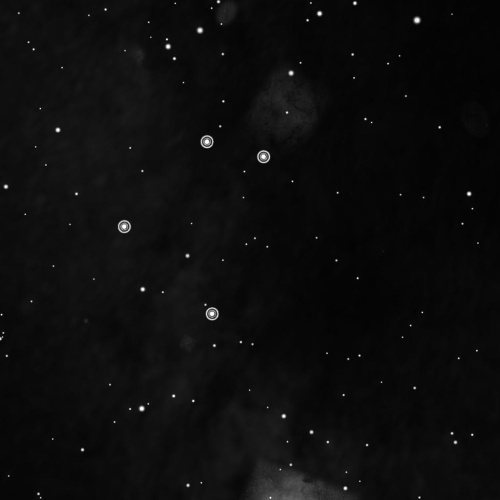coma_berenices: (109, 128, 279, 330)
